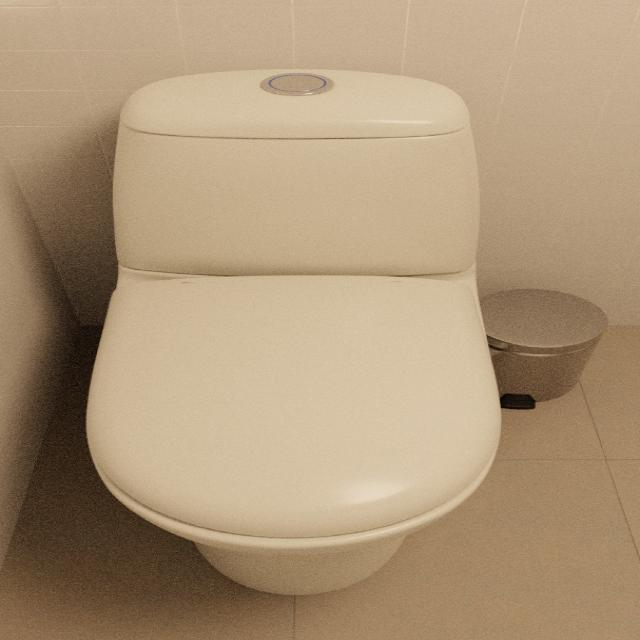toilet: (84, 68, 503, 596)
